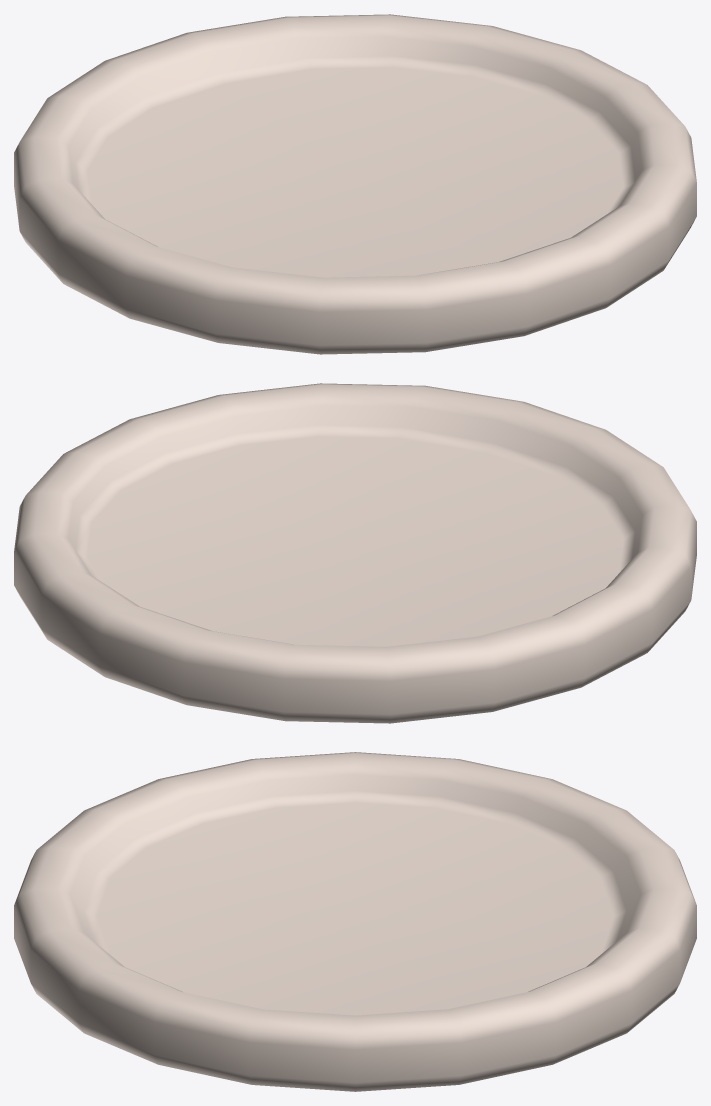
File: Plate_1.glb
3 renders of one model, top to bottom at view 1: azimuth 30°, elevation 25°; view 2: azimuth 150°, elevation 25°; view 3: azimuth 270°, elevation 25°, orthographic.
Visible parts, largest first — view 1: Plate_1; view 2: Plate_1; view 3: Plate_1.
Boxes of the visible parts, x1=… form: Plate_1: x1=14, y1=14, x2=696, y2=354; Plate_1: x1=14, y1=383, x2=696, y2=723; Plate_1: x1=14, y1=752, x2=696, y2=1091.
Size of the model in its own units: 0.4679 by 0.071 by 0.4678.
Materials: 1 (1 with a texture image).
